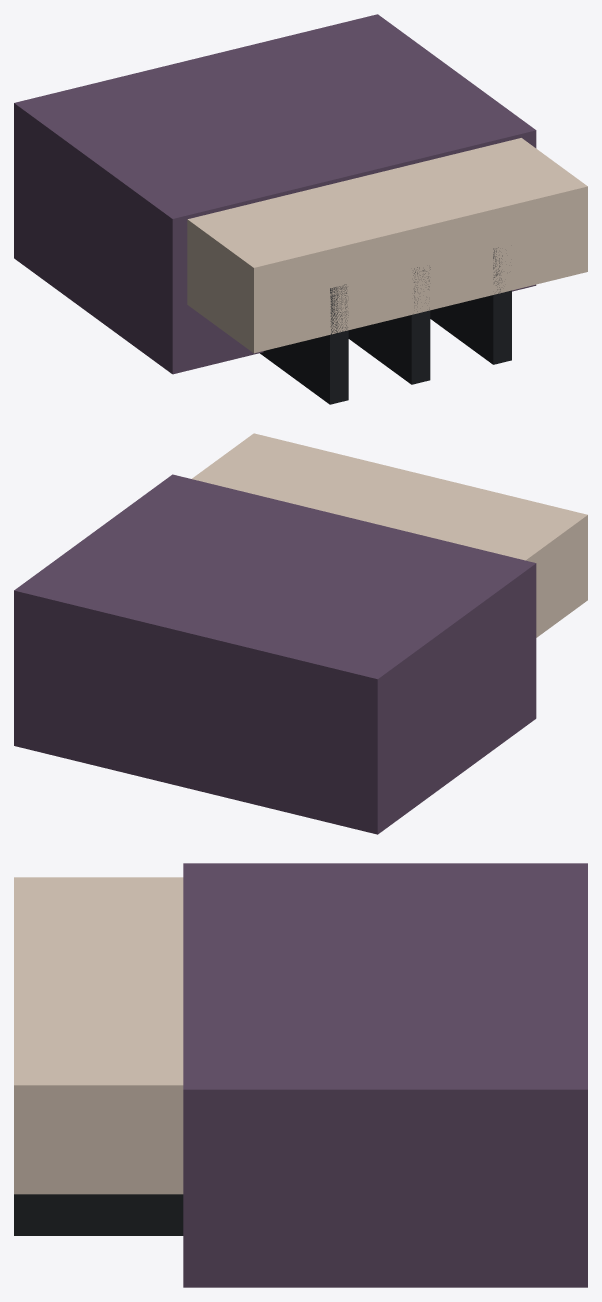
The model's file is inf_brute_hand.fbx.
3 views of the same model, one above another, from view 1: azimuth 30°, elevation 25°; view 2: azimuth 150°, elevation 25°; view 3: azimuth 270°, elevation 25° (orthographic). The views are drawn at different scales.
Parts seen in each view (by area): view 1: inf_brute_hand; view 2: inf_brute_hand; view 3: inf_brute_hand.
Part boxes in pixels (bbox=[...]): inf_brute_hand: bbox=[14, 14, 587, 404]; inf_brute_hand: bbox=[14, 433, 587, 834]; inf_brute_hand: bbox=[14, 863, 587, 1287].
Bounding box in the file's own units: 98 × 41 × 105.
